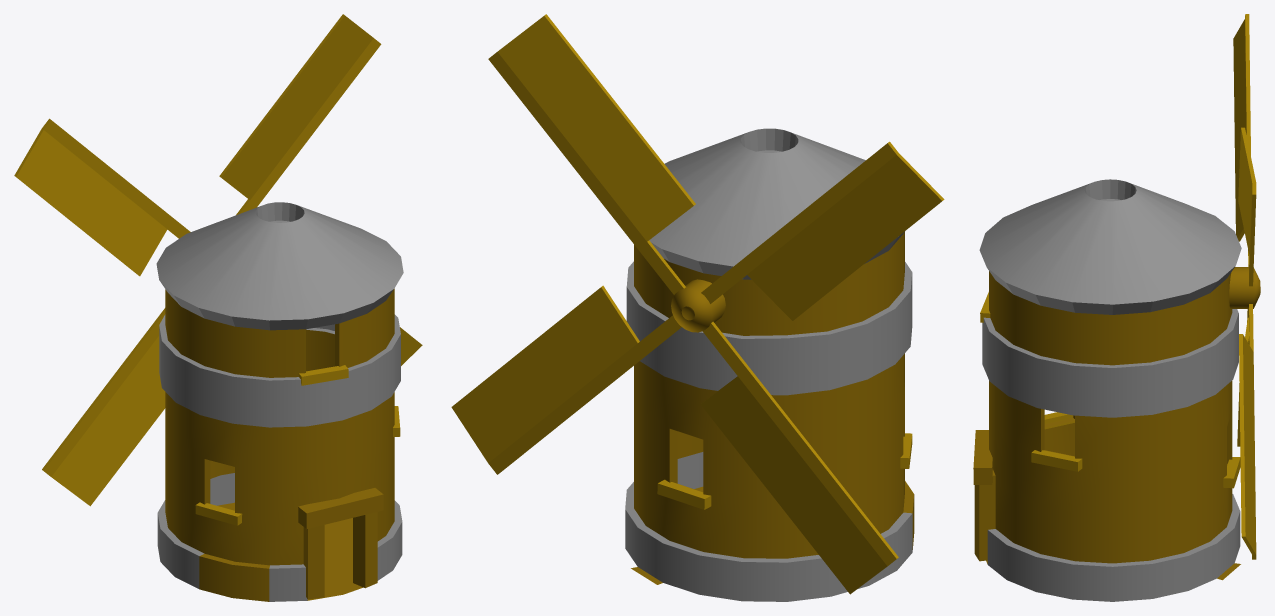
The model's file is mill.fbx.
The picture shows the model from 3 angles, left to right: view 1: azimuth 30°, elevation 25°; view 2: azimuth 150°, elevation 25°; view 3: azimuth 270°, elevation 25°; orthographic projection. The views are drawn at different scales.
Parts seen in each view (by area): view 1: polySurface111.001; view 2: polySurface111.001; view 3: polySurface111.001.
Boxes of the visible parts, left/top/right/bottom form: polySurface111.001: left=14, top=14, right=422, bottom=601; polySurface111.001: left=451, top=14, right=944, bottom=601; polySurface111.001: left=973, top=14, right=1260, bottom=601.
Size of the model in its own units: 115 by 123 by 65.91.
